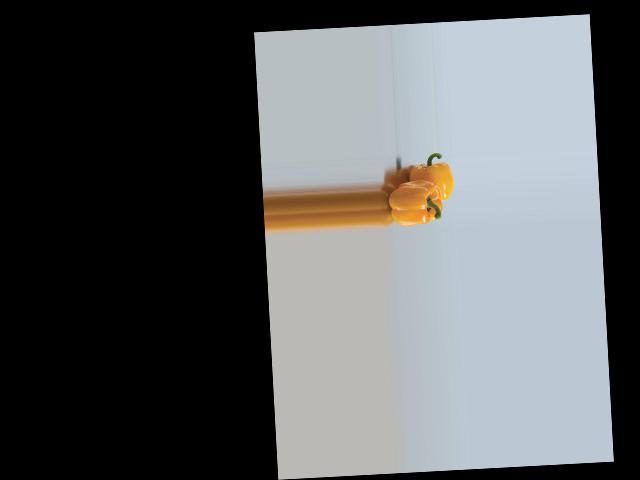bell_pepper: (400, 152, 455, 204)
